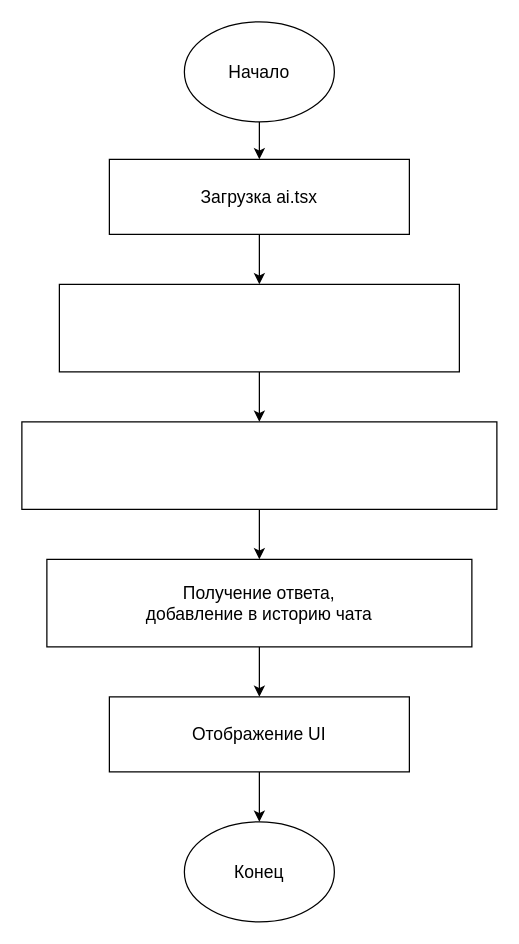
Some shapes in this 519 by 944 pixel diagram are drawn without their labels. Here are the shapes that lost their labels. From the top down, the box of each, then its label:
(58, 283, 459, 372): Ввод текста сообщения пользователем
(21, 421, 497, 509): askAiAssistantFn → запрос к API OpenRouter
